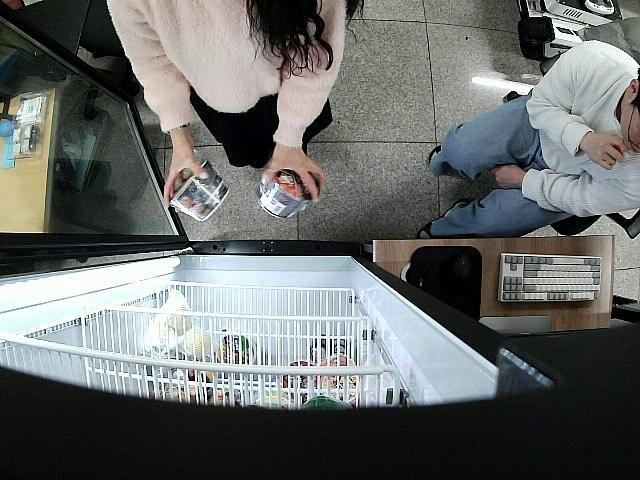07_buldak_L: (168, 160, 229, 221), (256, 167, 319, 220)
